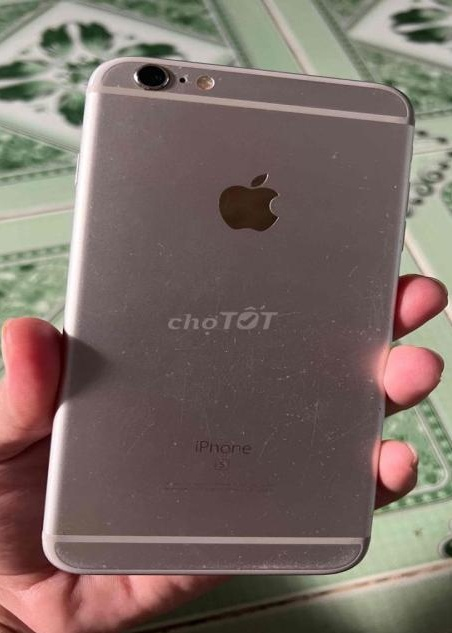scratch: (119, 349, 353, 468), (199, 522, 371, 581), (318, 138, 389, 243), (328, 258, 387, 371), (109, 51, 200, 98), (45, 532, 130, 577)
